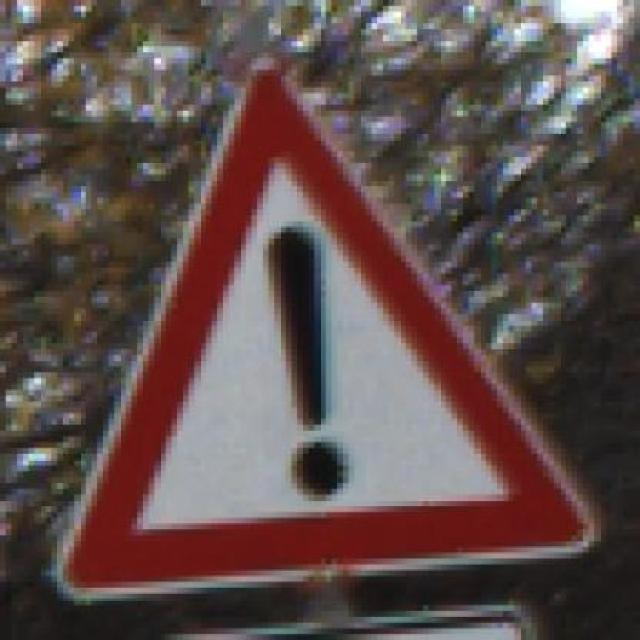Attention Please-: (57, 76, 606, 576)
